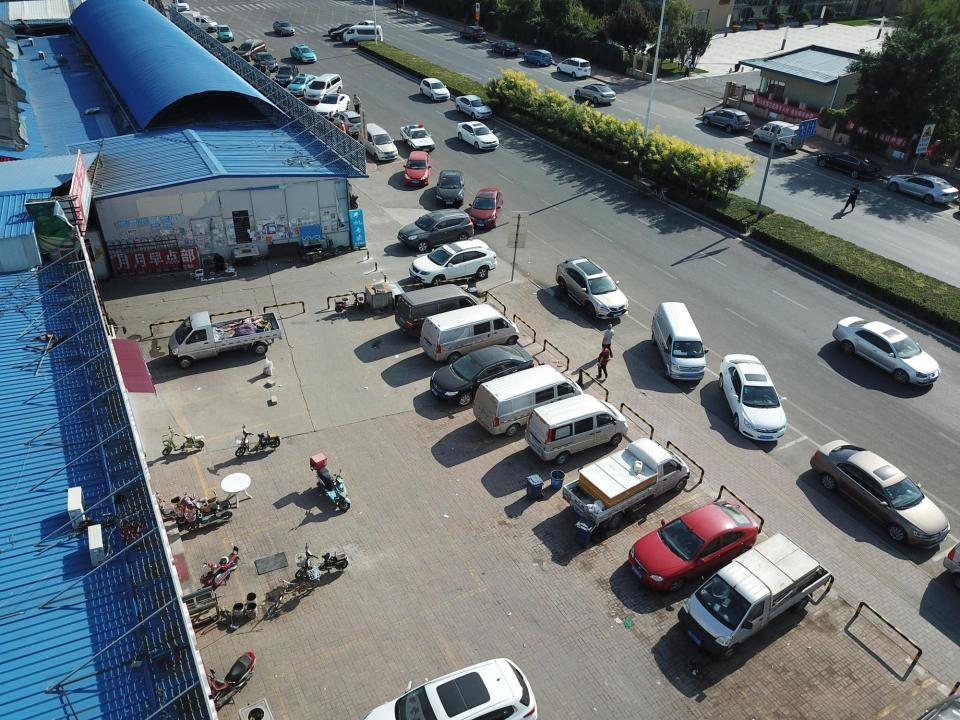car: (810, 439, 951, 548), (628, 500, 759, 593), (353, 656, 538, 720), (832, 316, 941, 386), (428, 344, 535, 407), (718, 353, 788, 442), (555, 256, 629, 320), (409, 238, 499, 289), (396, 207, 475, 252), (886, 174, 959, 205), (273, 567, 322, 611), (816, 150, 882, 180), (234, 424, 282, 457), (468, 186, 504, 229), (161, 425, 205, 456), (456, 120, 499, 150), (702, 108, 750, 134), (435, 168, 465, 207), (403, 150, 432, 187), (314, 92, 351, 121), (328, 109, 366, 137), (400, 123, 436, 152), (454, 95, 493, 119), (575, 84, 616, 104), (286, 73, 320, 96), (556, 56, 591, 78), (235, 38, 267, 62), (420, 77, 450, 101), (253, 52, 279, 73), (523, 49, 553, 67), (330, 26, 366, 41), (274, 64, 299, 85), (290, 44, 317, 63), (328, 23, 364, 37), (353, 20, 383, 35), (491, 40, 519, 56), (460, 25, 486, 42), (272, 20, 295, 36), (216, 24, 234, 42), (170, 0, 190, 12)
truck: (678, 531, 832, 661), (562, 437, 691, 530), (168, 310, 284, 369)
van: (470, 364, 586, 438), (524, 392, 629, 464), (418, 303, 520, 364), (394, 282, 486, 342), (651, 302, 708, 382), (752, 120, 806, 152), (358, 123, 398, 162), (304, 72, 344, 102), (177, 10, 218, 33), (342, 25, 384, 46)
